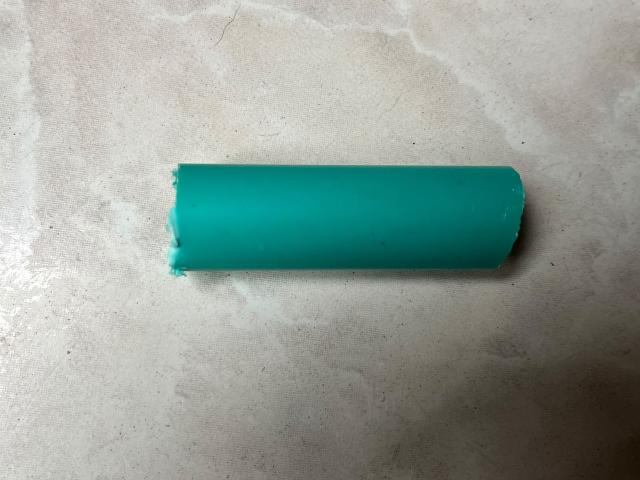PVC: (152, 143, 561, 316)
